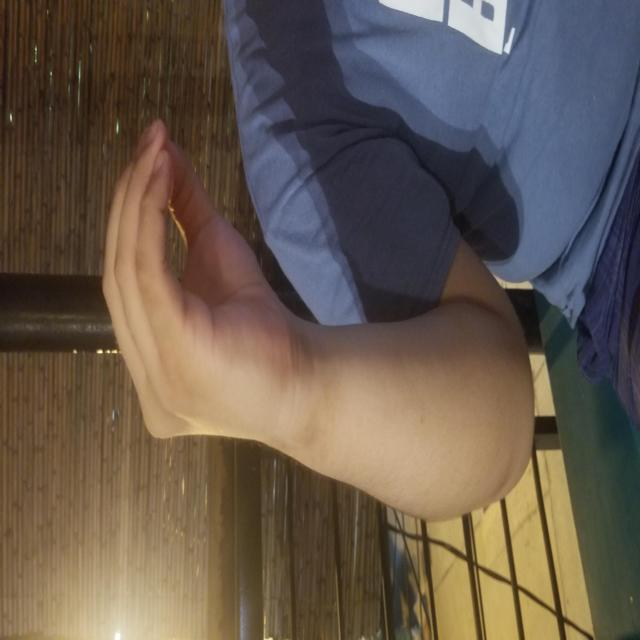O: (198, 102, 520, 280)
